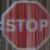Stop: (1, 3, 49, 45)
